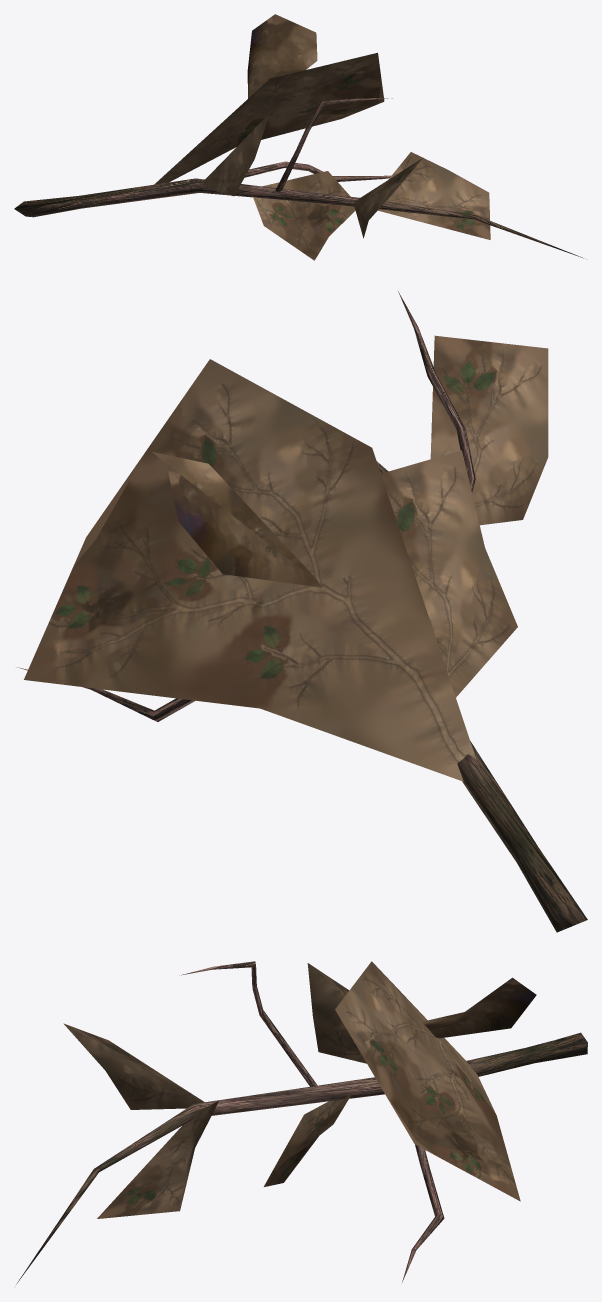
The model's file is Debris_Branch_01.FBX.
3 renders of one model, top to bottom at view 1: azimuth 30°, elevation 25°; view 2: azimuth 150°, elevation 25°; view 3: azimuth 270°, elevation 25°, orthographic. The views are drawn at different scales.
Parts seen in each view (by area): view 1: Debris_Branch_01; view 2: Debris_Branch_01; view 3: Debris_Branch_01.
Boxes of the visible parts, box(x1,y1,x2,y2) form: Debris_Branch_01: box(14, 14, 583, 260); Debris_Branch_01: box(16, 291, 587, 932); Debris_Branch_01: box(16, 961, 587, 1284).
Bounding box in the file's own units: 195 × 85.75 × 182.
